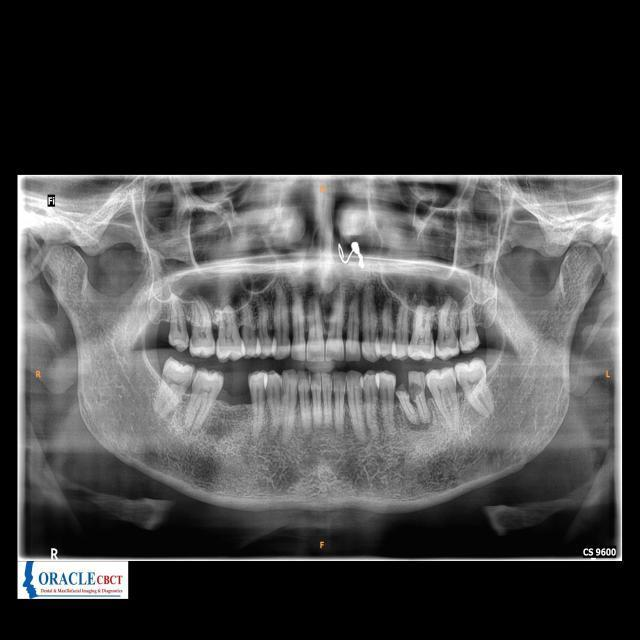dentin-curugu: (393, 369, 430, 411)
